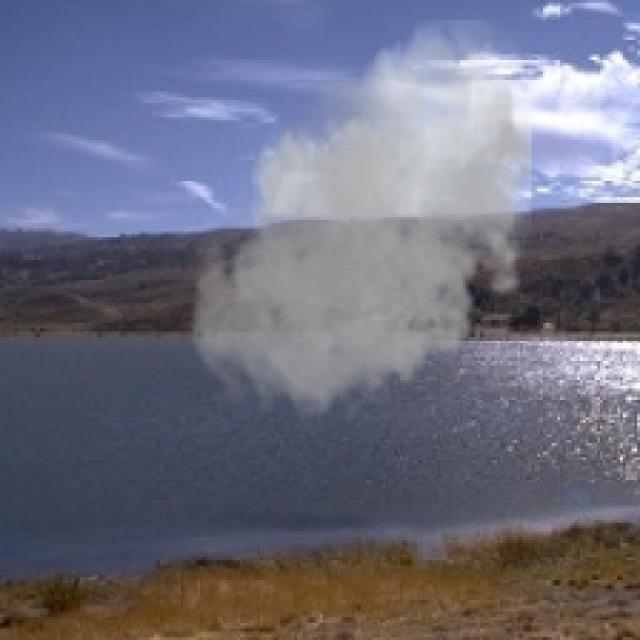Smoke: (183, 19, 546, 434)
